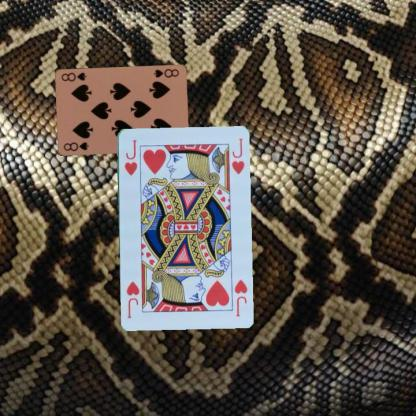8s: (60, 140, 90, 152), (151, 67, 180, 79)
Jh: (121, 137, 138, 176), (232, 277, 248, 318)
